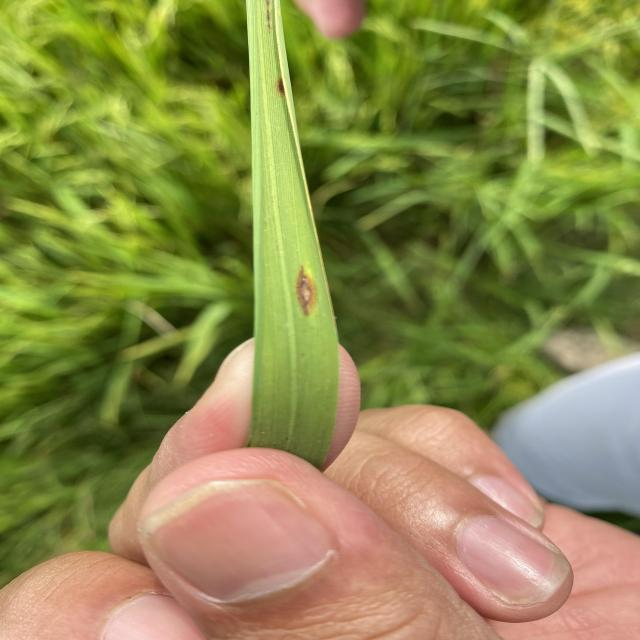Dom nau: (295, 264, 318, 319), (278, 78, 285, 95)
